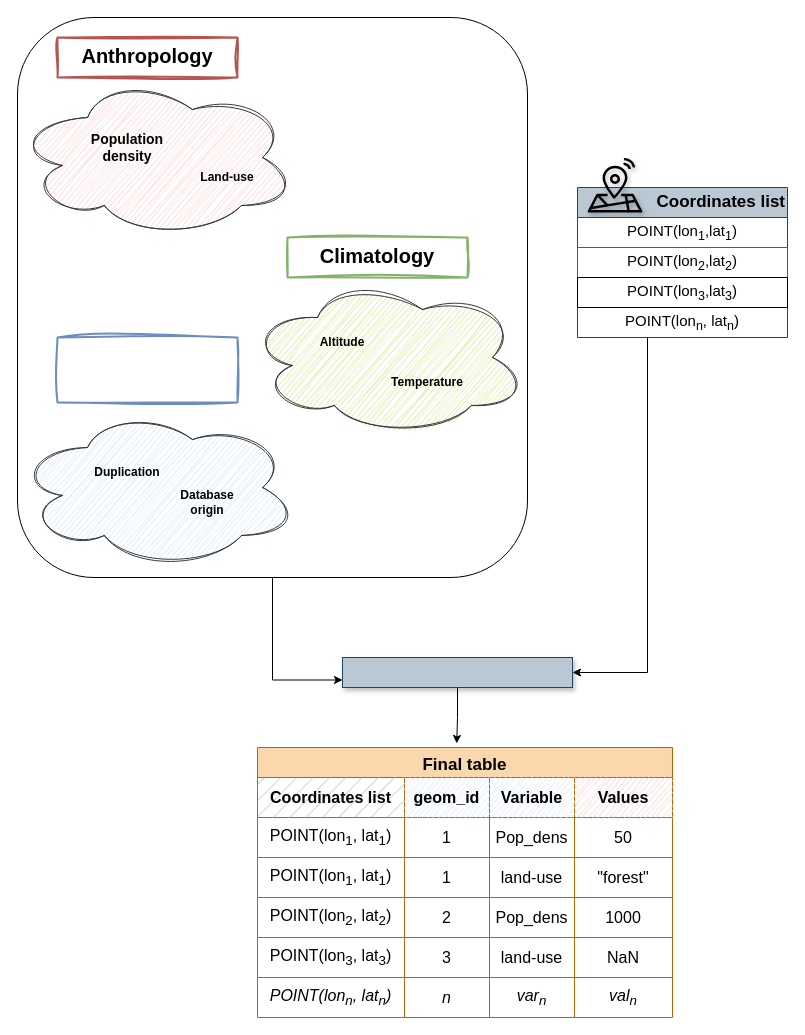
The diagram is 805 pixels wide and 1035 high, and some of its shapes have lost their labels. The centre of each missing label's shape, as x and y in pixels:
Coordinates metadata: the point at 147,369
MULTIPLE SPATIAL JOINS: the point at 458,673
